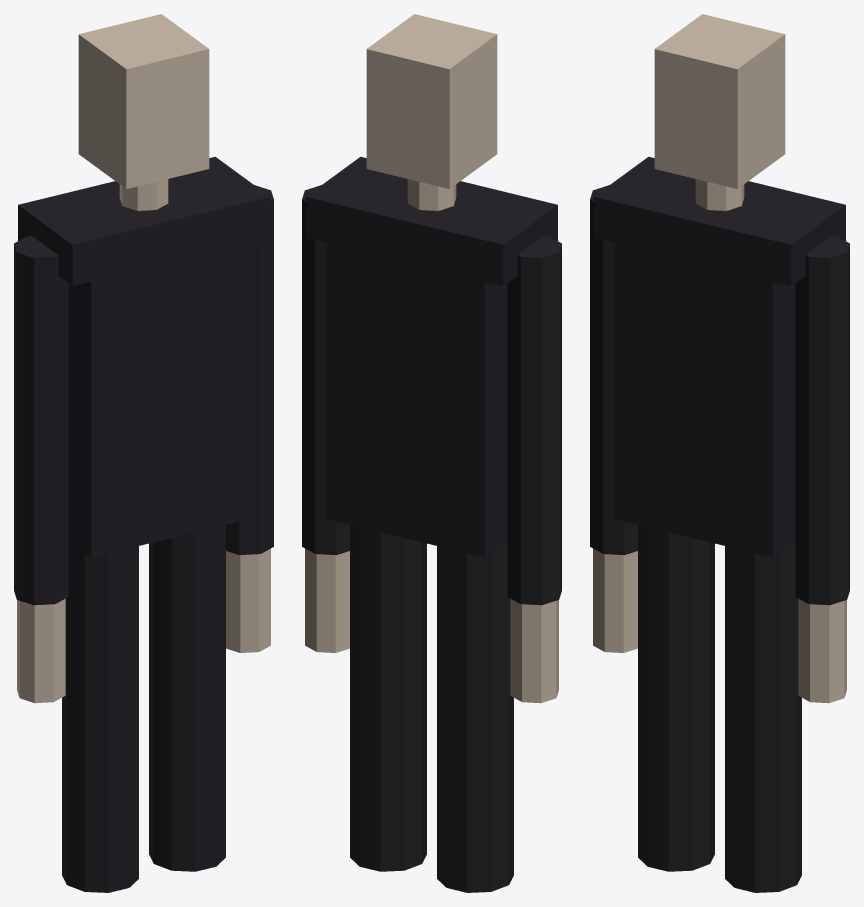
Rendered from faceling.obj.
3 renders of one model, left to right at view 1: azimuth 30°, elevation 25°; view 2: azimuth 150°, elevation 25°; view 3: azimuth 330°, elevation 25°, orthographic.
Size of the model in its own units: 0.644 by 2 by 0.24.
